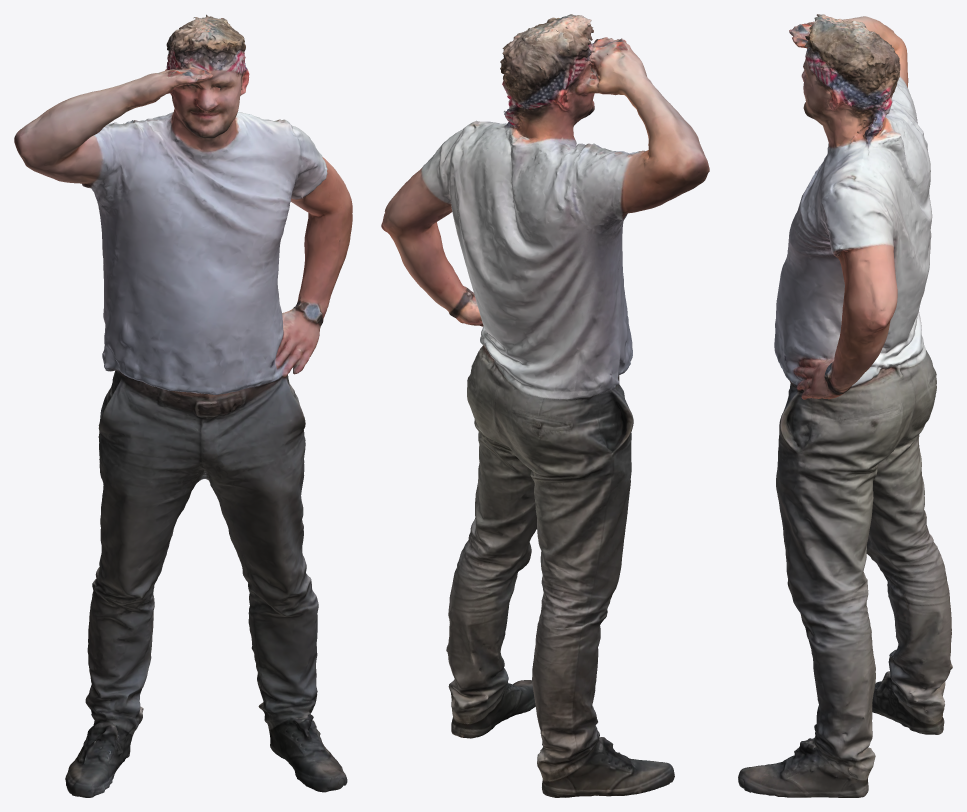
The model's file is sf-ben-2cd759.glb.
3 renders of one model, left to right at view 1: azimuth 30°, elevation 25°; view 2: azimuth 150°, elevation 25°; view 3: azimuth 270°, elevation 25°, orthographic. The views are drawn at different scales.
Visible parts, largest first — view 1: Object_2; view 2: Object_2; view 3: Object_2.
Part boxes in pixels (left/top/right/bottom): Object_2: left=14, top=14, right=352, bottom=797; Object_2: left=381, top=14, right=709, bottom=797; Object_2: left=738, top=14, right=952, bottom=797.
Bounding box in the file's own units: 0.9919 × 2.15 × 0.5721.
1 material, 1 textured.
